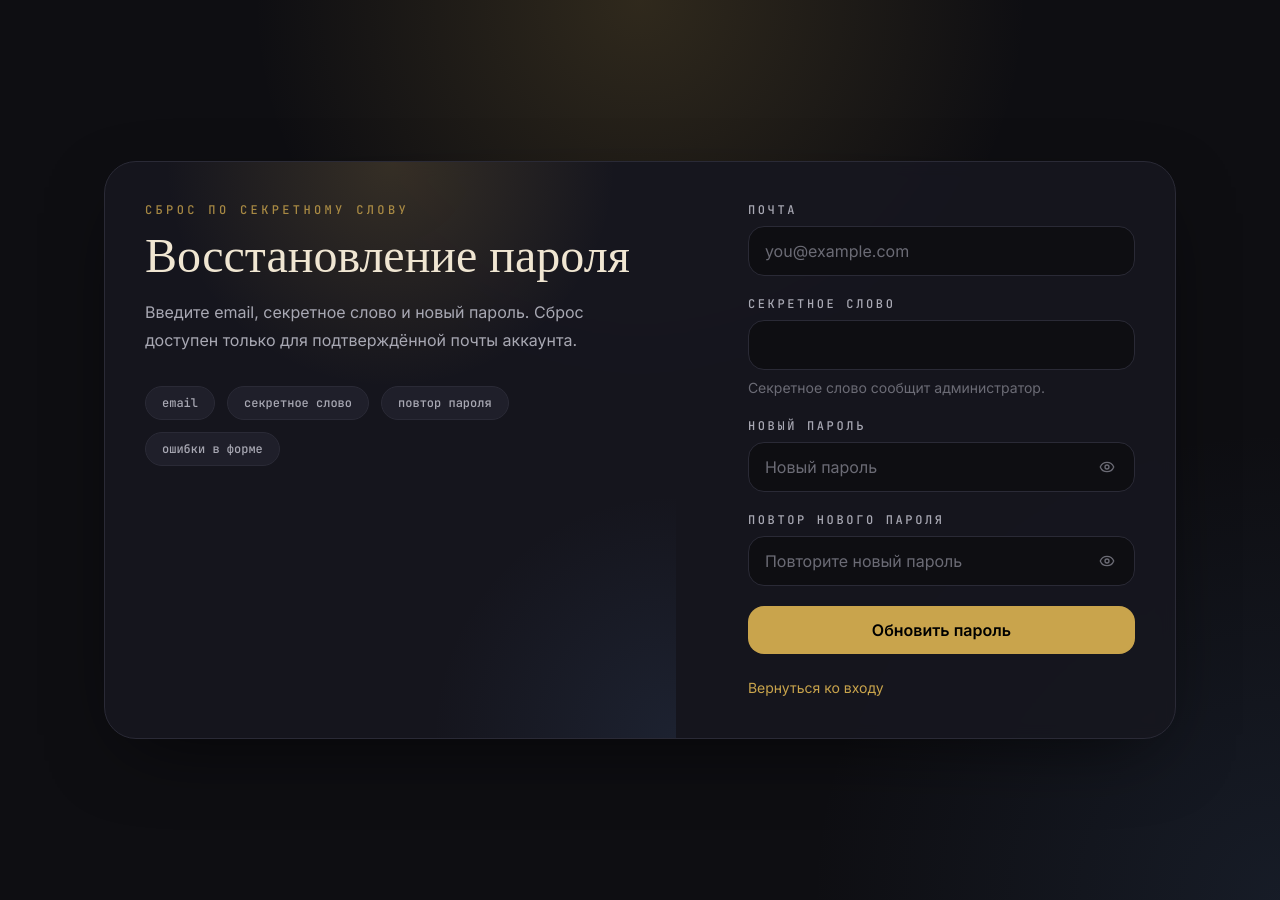
Test: password reset page › shows backend validation message for invalid email or secret word
Type "missing@example.com" into the field labelled "Почта" at [941, 251], box x1=748 y1=226 x2=1135 y2=276
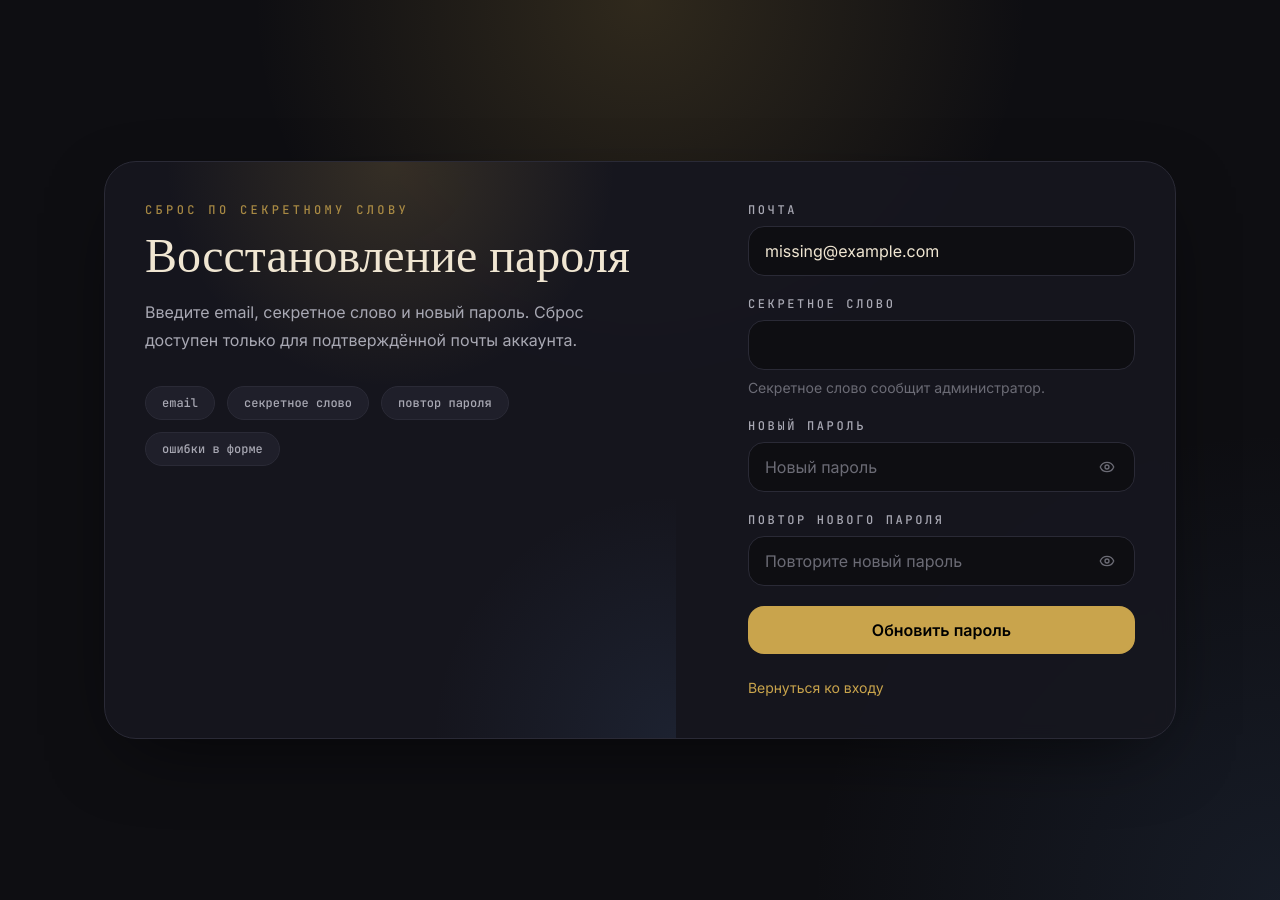
Type "wrong-word" into the field labelled "Секретное слово" at [941, 345], box x1=748 y1=320 x2=1135 y2=370
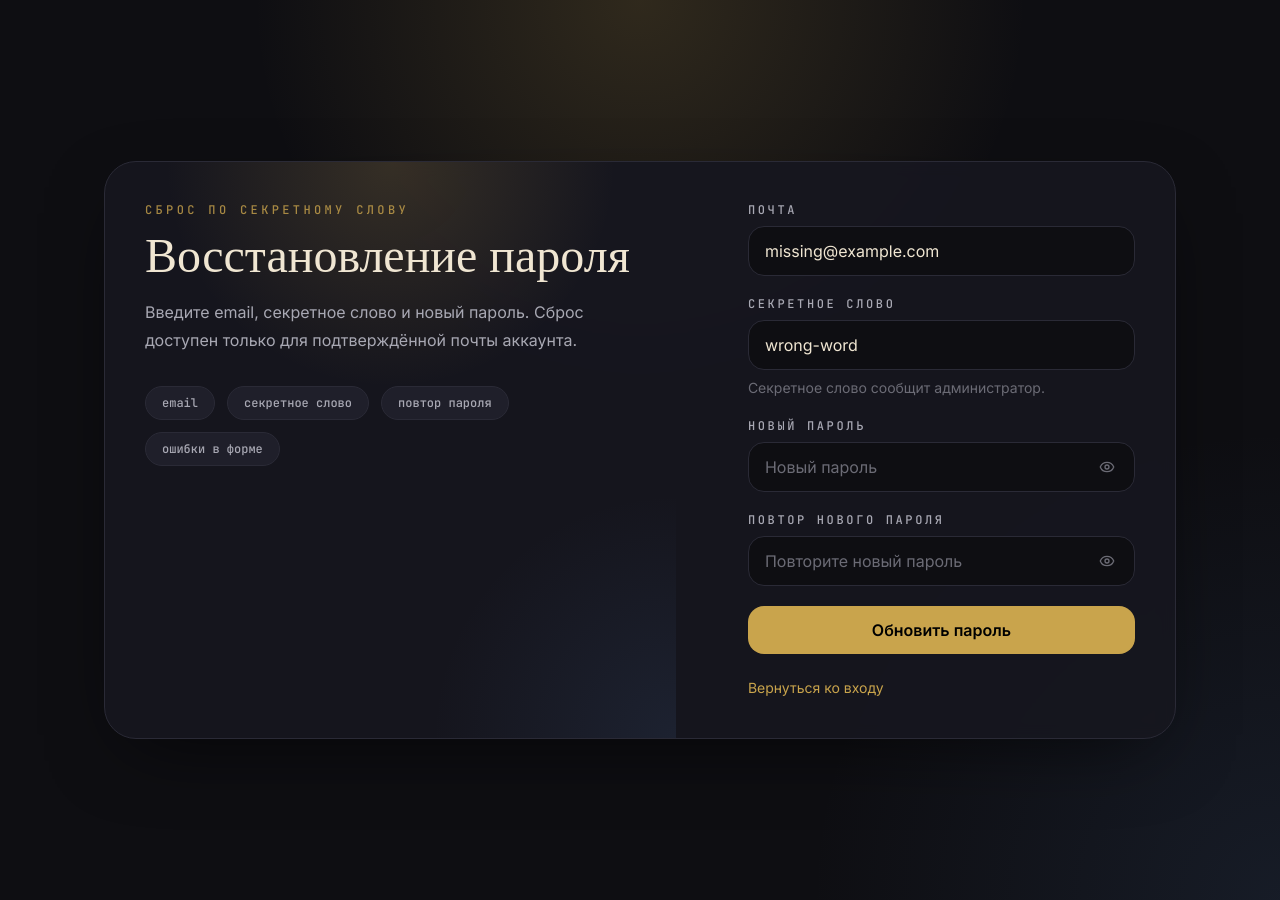
Type "NewStrongPassword123!" into the password field labelled "Новый пароль" at [941, 467], box x1=748 y1=442 x2=1135 y2=492
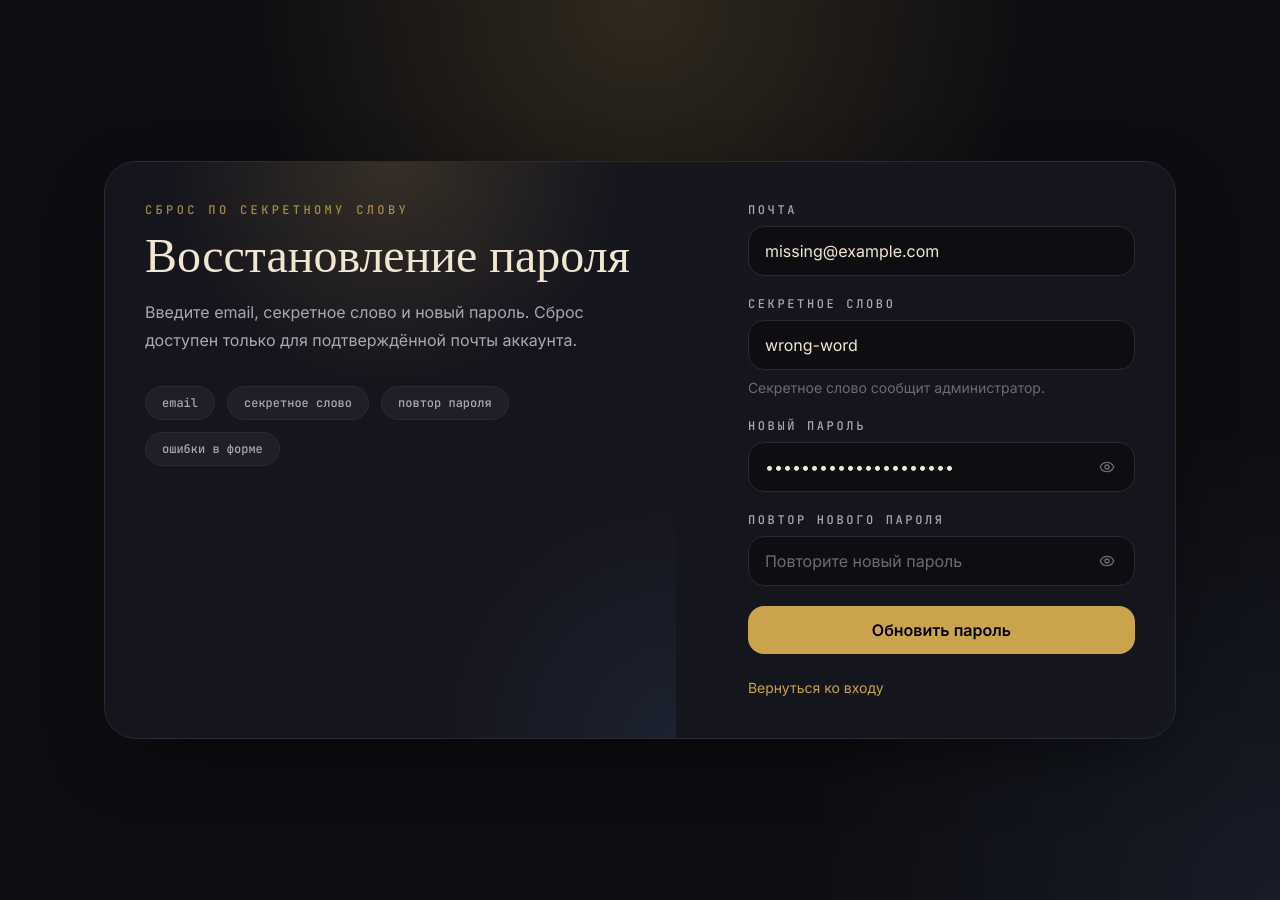
Type "NewStrongPassword123!" into the password field labelled "Повтор нового пароля" at [941, 561], box x1=748 y1=536 x2=1135 y2=586
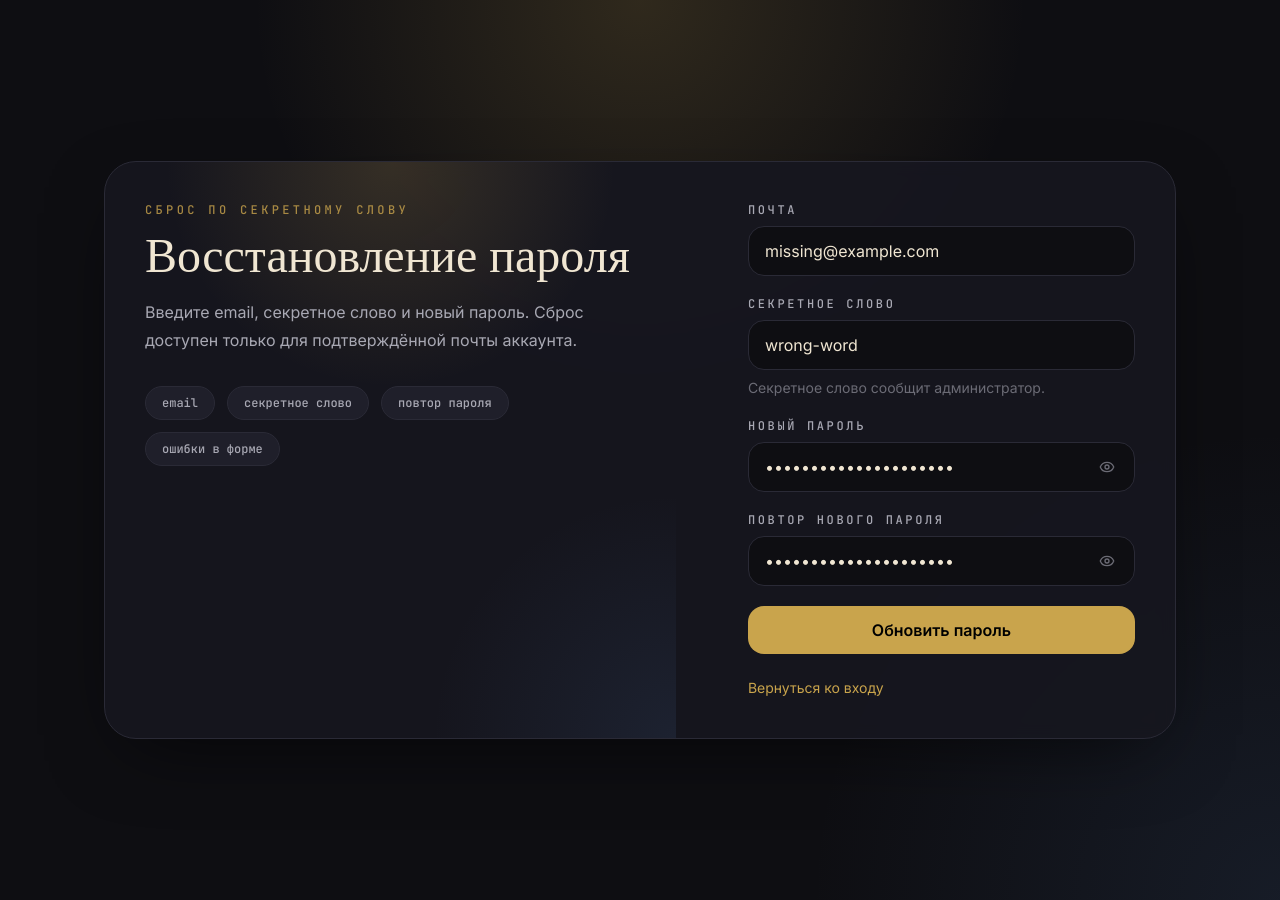
Click the button "Обновить пароль" at [941, 630], box x1=748 y1=606 x2=1135 y2=654
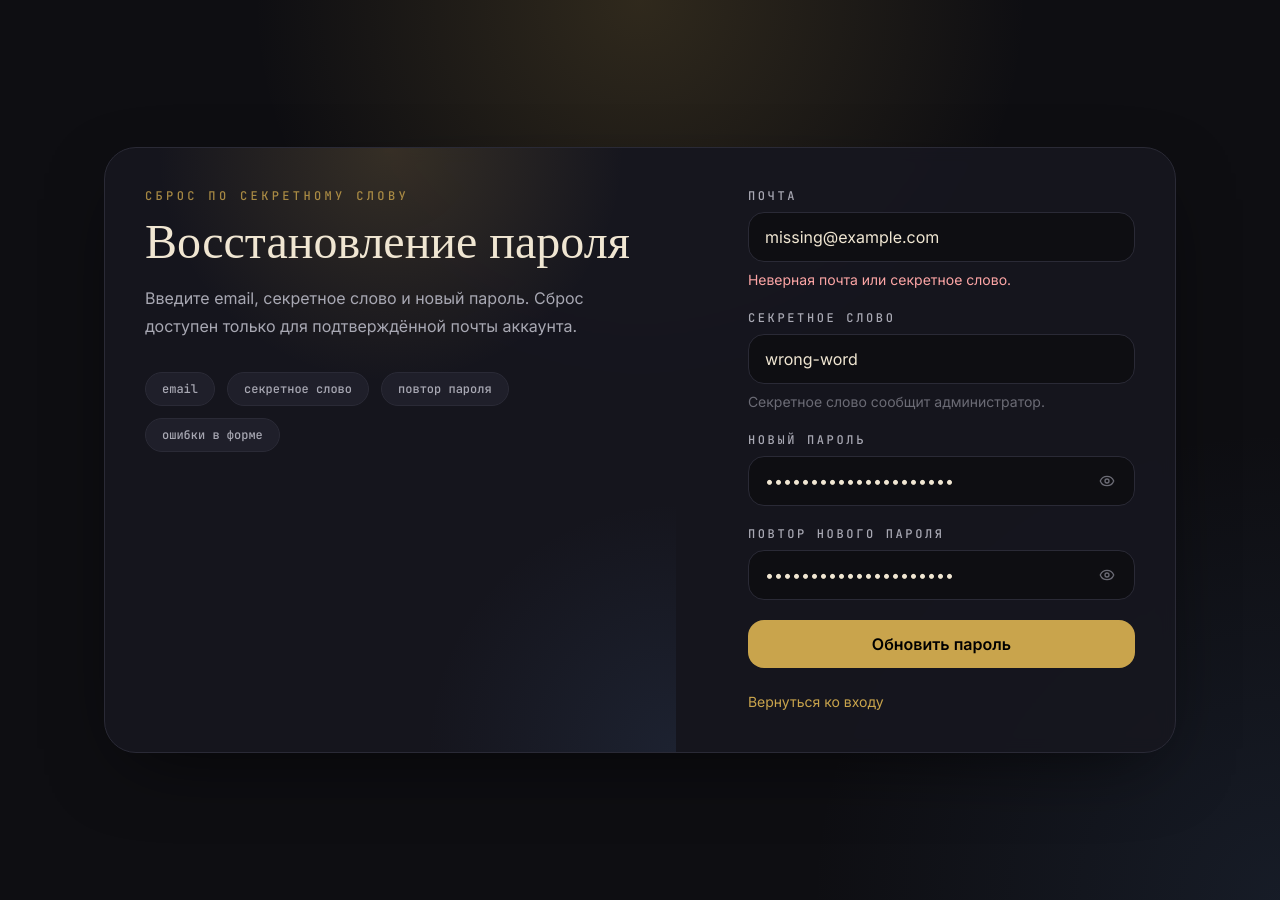
Result: the text "Неверная почта или секретное слово." is shown at x1=748 y1=271 x2=1011 y2=288
